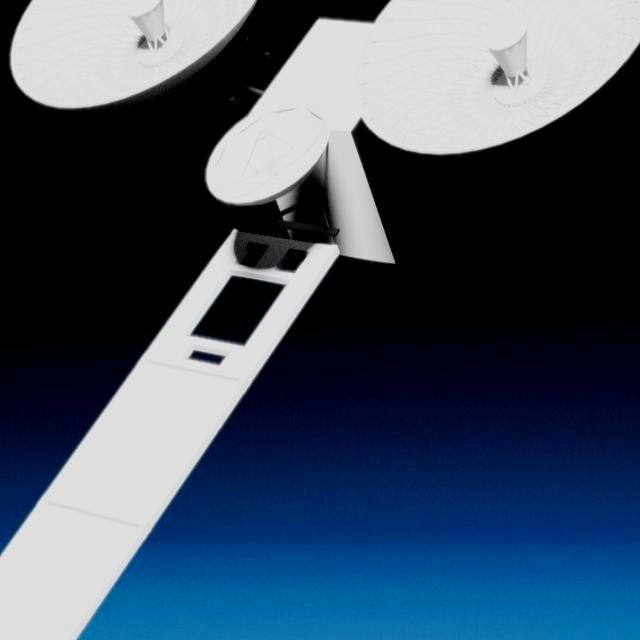satellite: (0, 3, 637, 640)
